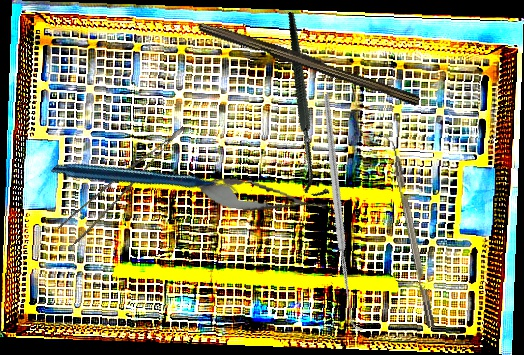Chopper: (380, 132, 435, 330)
Handpiece: (49, 88, 240, 275)
Hook Surgical: (243, 92, 445, 332), (229, 11, 386, 201)
Micro Scissor: (194, 172, 329, 223)
Scalpel Handle: (195, 17, 424, 107)
Tissue Forceps: (52, 126, 202, 247)
